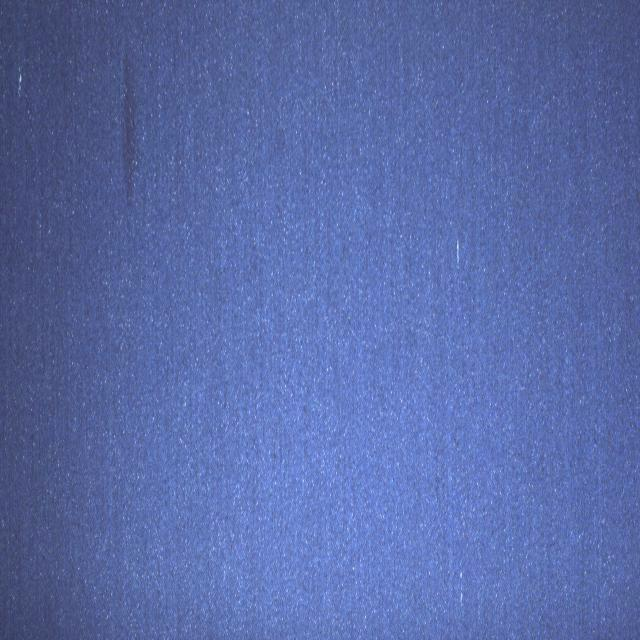stain: (123, 47, 136, 204)
